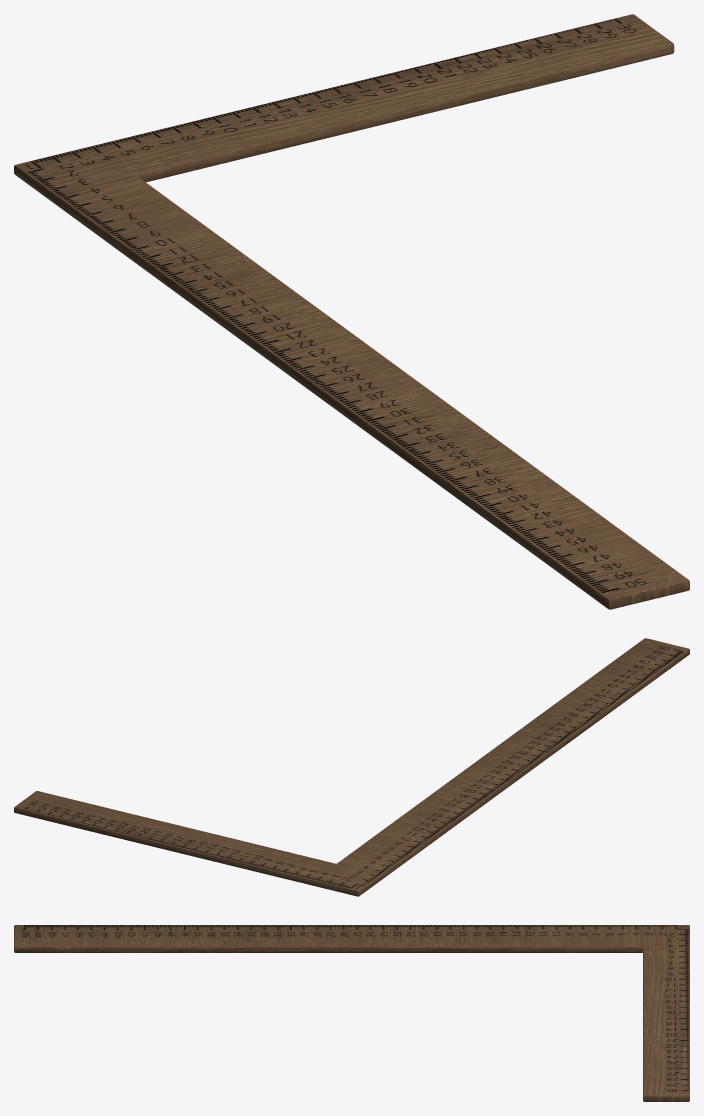
The picture shows the model from 3 angles, top to bottom: view 1: azimuth 30°, elevation 25°; view 2: azimuth 150°, elevation 25°; view 3: azimuth 270°, elevation 25°; orthographic projection. The views are drawn at different scales.
Parts seen in each view (by area): view 1: set squares_0; view 2: set squares_0; view 3: set squares_0.
Part boxes in pixels (<box>): set squares_0: <box>14,14,689,609</box>; set squares_0: <box>14,638,689,896</box>; set squares_0: <box>14,925,689,1101</box>.
Bounding box in the file's own units: 0.3003 × 0.005 × 0.4996.
Materials: 1 (1 with a texture image).
